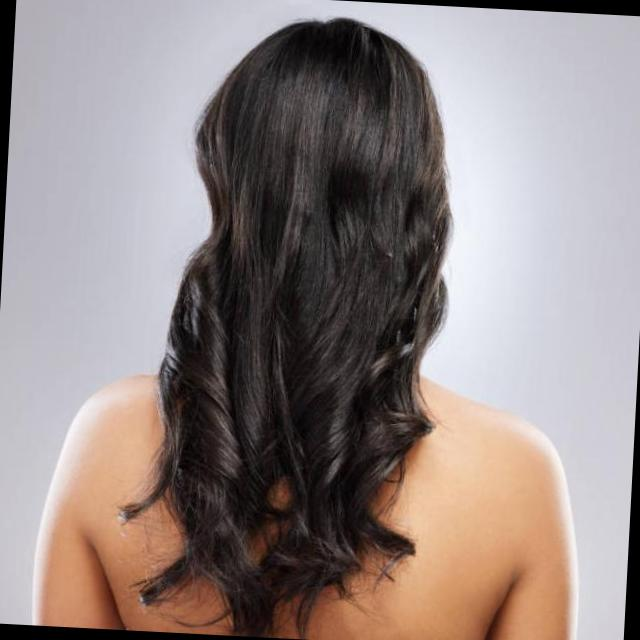no helmet: (184, 9, 456, 358)
